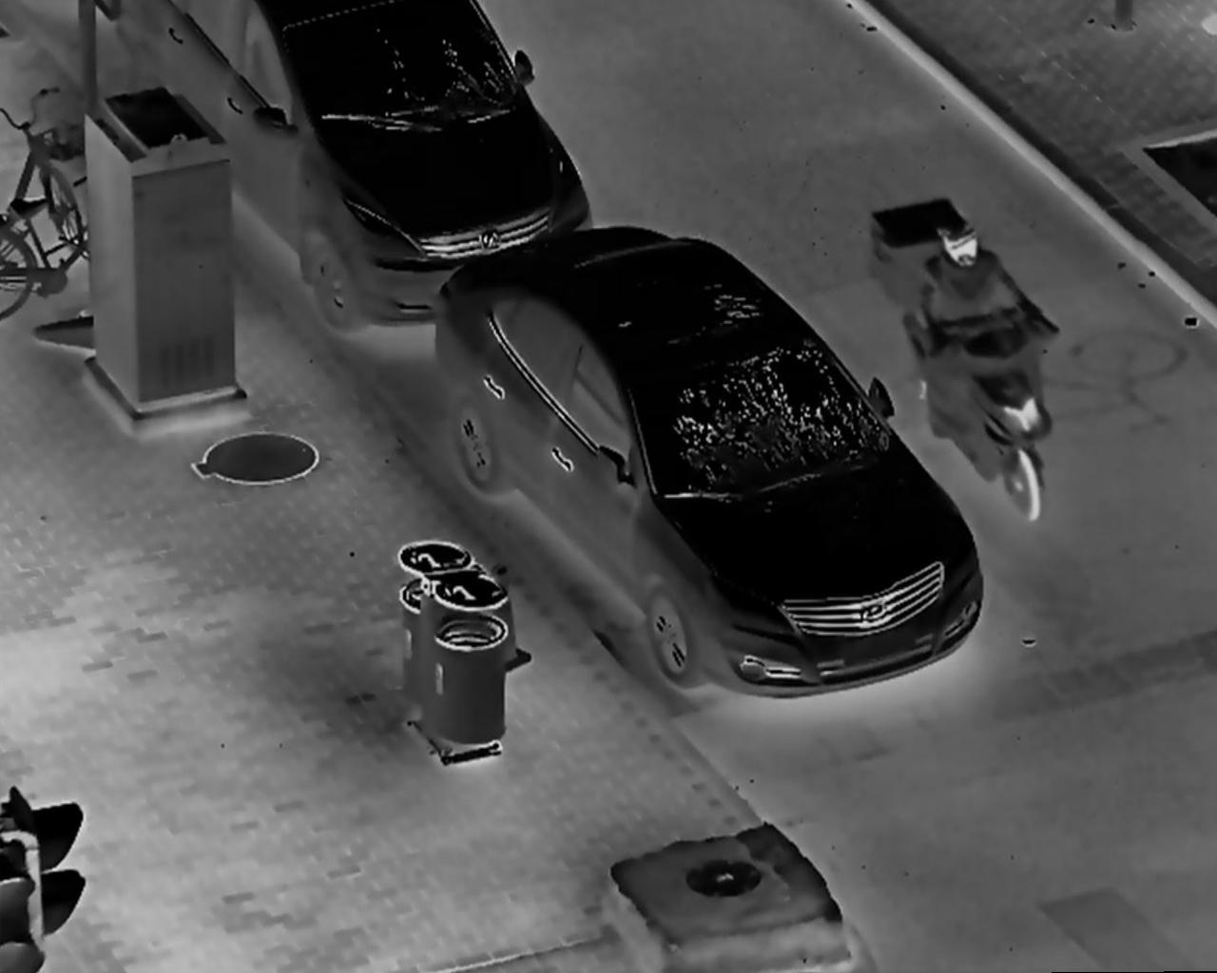person: (912, 219, 1056, 456)
